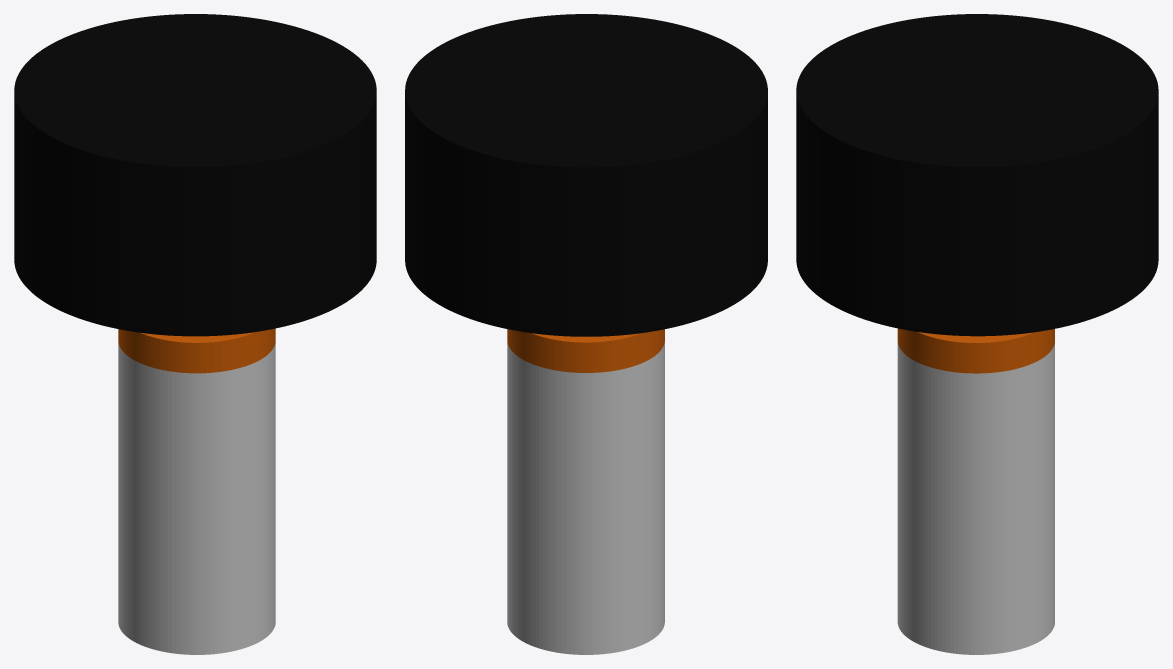
The model's file is lamp32.obj.
The picture shows the model from 3 angles, left to right: view 1: azimuth 30°, elevation 25°; view 2: azimuth 150°, elevation 25°; view 3: azimuth 270°, elevation 25°; orthographic projection.
Parts seen in each view (by area): view 1: Cylinder.002, Cylinder, Cylinder.001; view 2: Cylinder.002, Cylinder, Cylinder.001; view 3: Cylinder.002, Cylinder, Cylinder.001.
Boxes of the visible parts, x1,y1,x2,y2 form: Cylinder.002: (14,14,376,336); Cylinder: (118,343,275,654); Cylinder.001: (118,328,275,373); Cylinder.002: (405,14,767,336); Cylinder: (507,341,664,654); Cylinder.001: (507,329,664,372); Cylinder.002: (796,14,1158,336); Cylinder: (897,342,1054,654); Cylinder.001: (897,328,1054,373).
Size of what is drawn, in the model's own units: 4.6 by 7.44 by 4.6.
